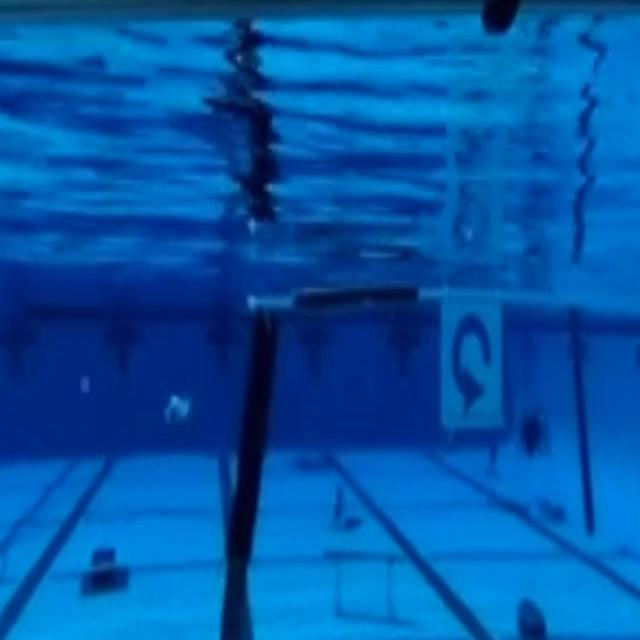Gate: (222, 279, 636, 628)
